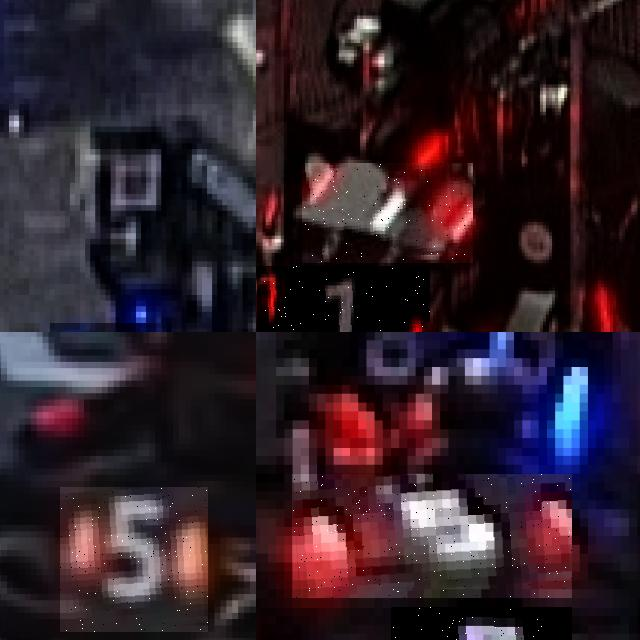R1: (302, 164, 473, 264), (256, 266, 430, 332)
R5: (292, 474, 572, 598), (60, 487, 208, 632), (391, 607, 571, 640)
